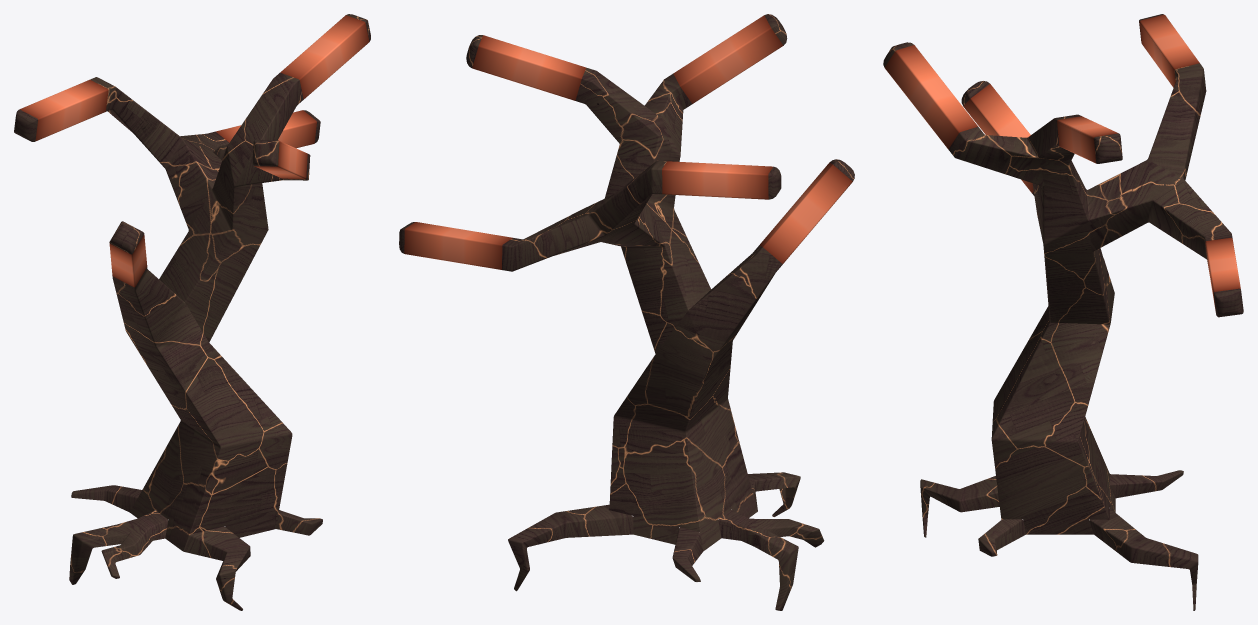
The model's file is lampara.obj.
3 renders of one model, left to right at view 1: azimuth 30°, elevation 25°; view 2: azimuth 150°, elevation 25°; view 3: azimuth 270°, elevation 25°, orthographic. The views are drawn at different scales.
Parts seen in each view (by area): view 1: Plane.001_Material.006; view 2: Plane.001_Material.006; view 3: Plane.001_Material.006.
Part boxes in pixels (bbox=[...]): Plane.001_Material.006: bbox=[14, 14, 370, 610]; Plane.001_Material.006: bbox=[399, 14, 854, 610]; Plane.001_Material.006: bbox=[883, 14, 1243, 610].
Size of the model in its own units: 3.61 by 5.07 by 3.2.
